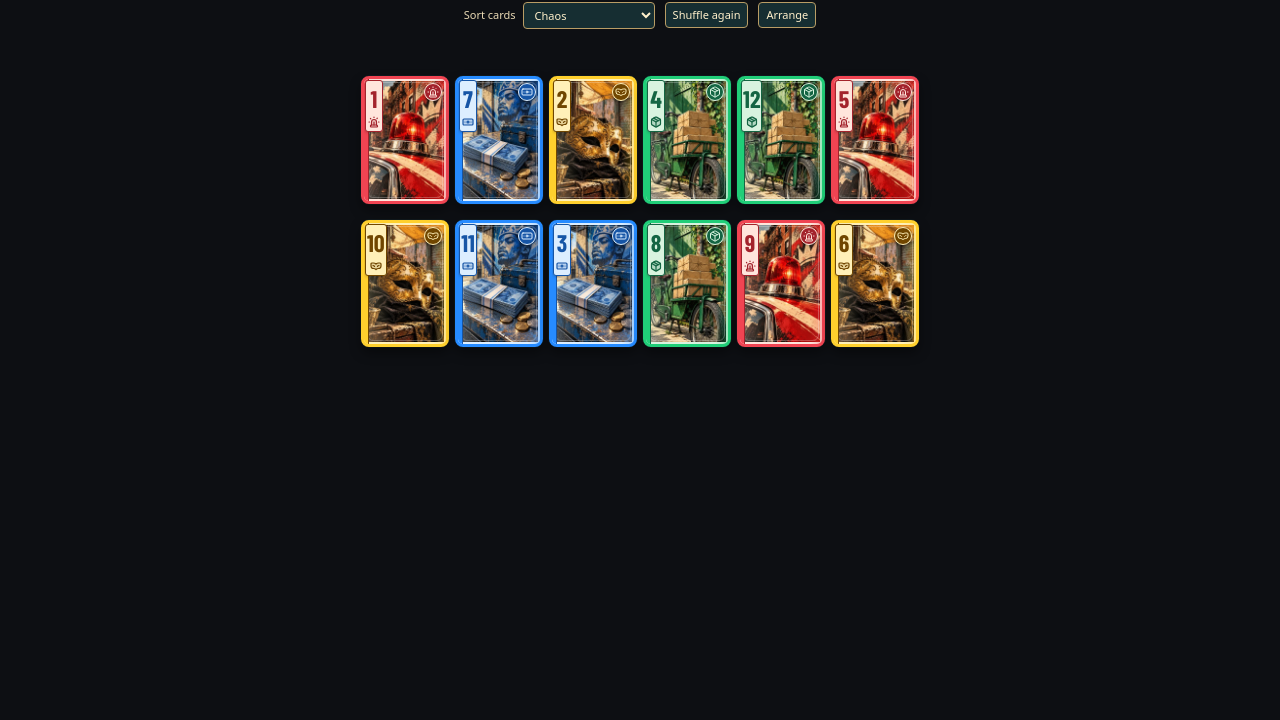
Test case: sorting by suit exits arrangement and English instructions follow the viewer language
Click the button with test id "hand-arrange-toggle".
click(787, 15)  # box [758, 2, 816, 28]
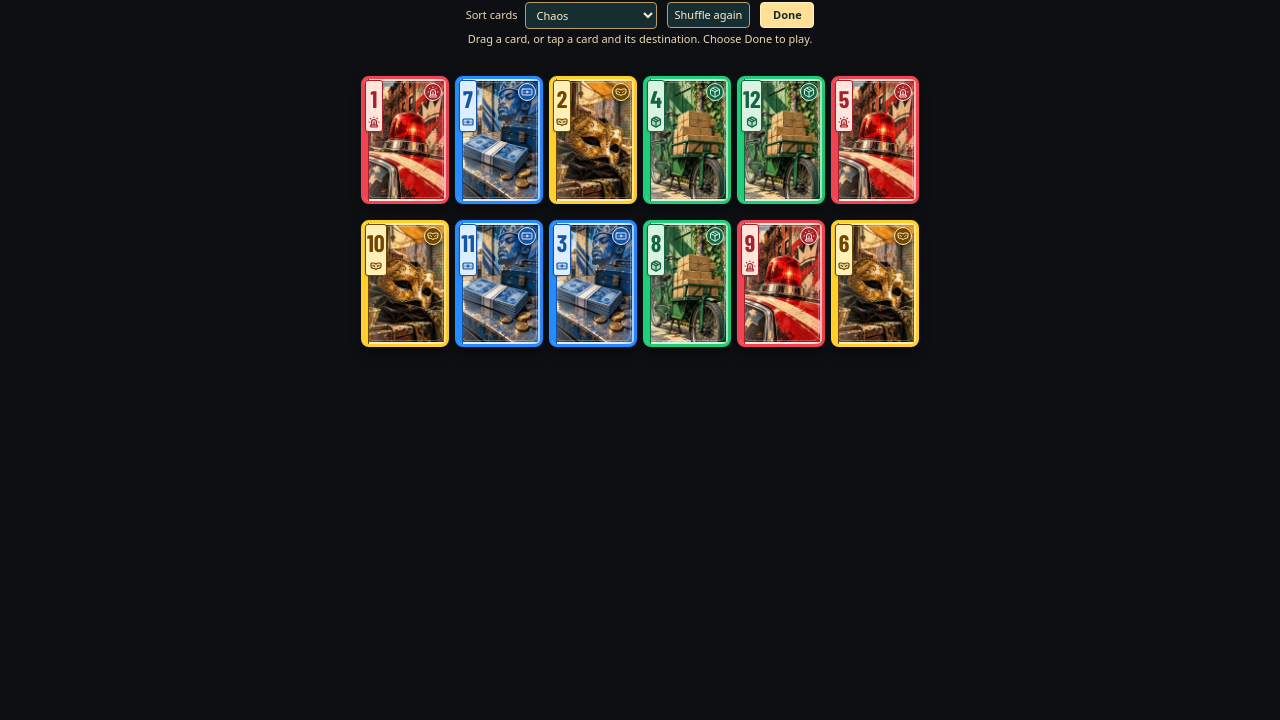
Now the button with test id "hand-arrange-toggle" reads "Done", box [760, 2, 814, 28]
Now the message with test id "hand-card-detail" shows "Drag a card", box [468, 31, 812, 46]
Select "Suits · ascending" in the dropdown labelled "Sort cards" at (590, 15), box [524, 2, 656, 28]
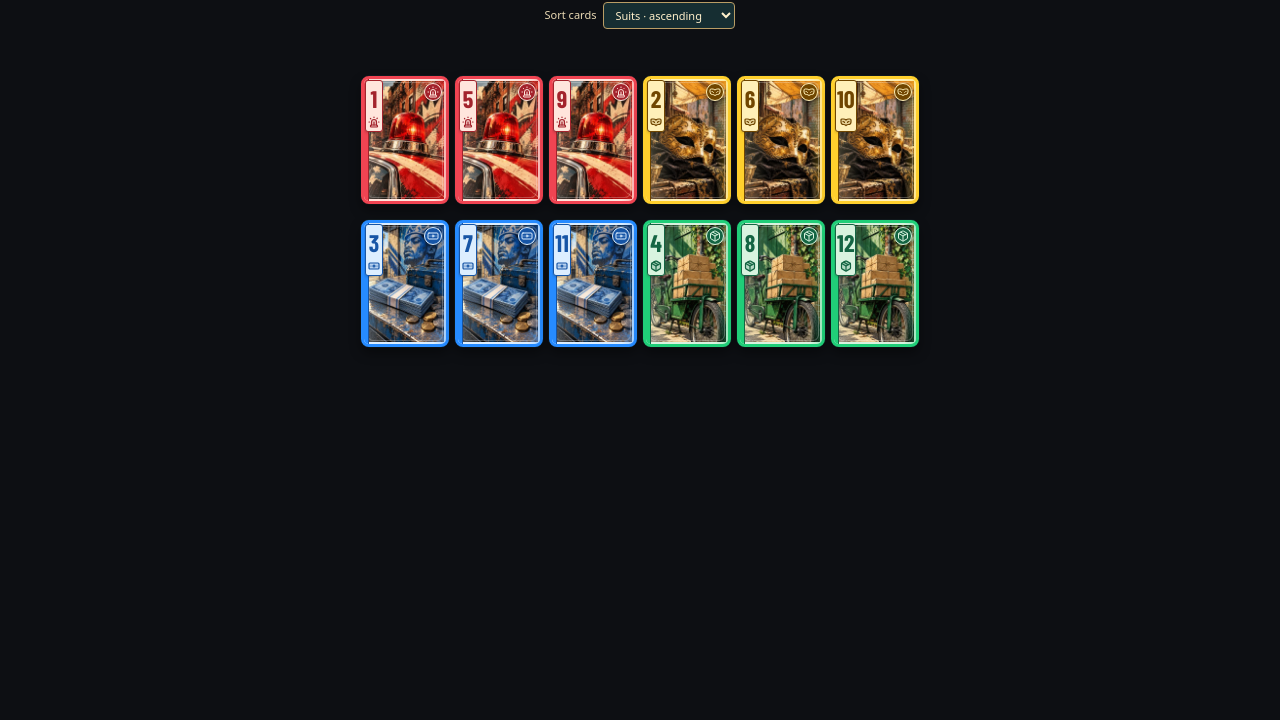
Now the button with test id "hand-arrange-toggle" is gone
